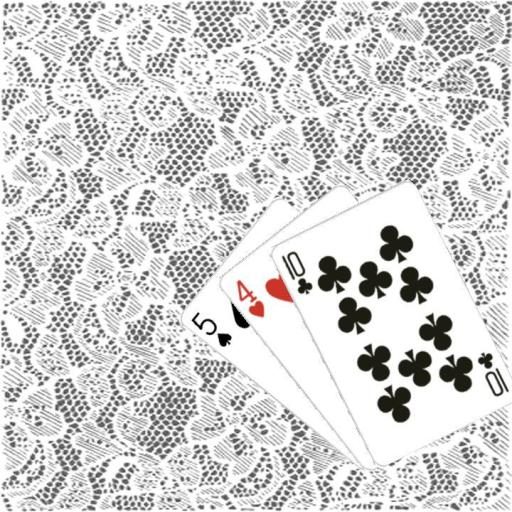10C: (473, 349, 510, 399), (277, 248, 314, 297)
4H: (232, 276, 266, 319)
5S: (187, 309, 233, 349)
